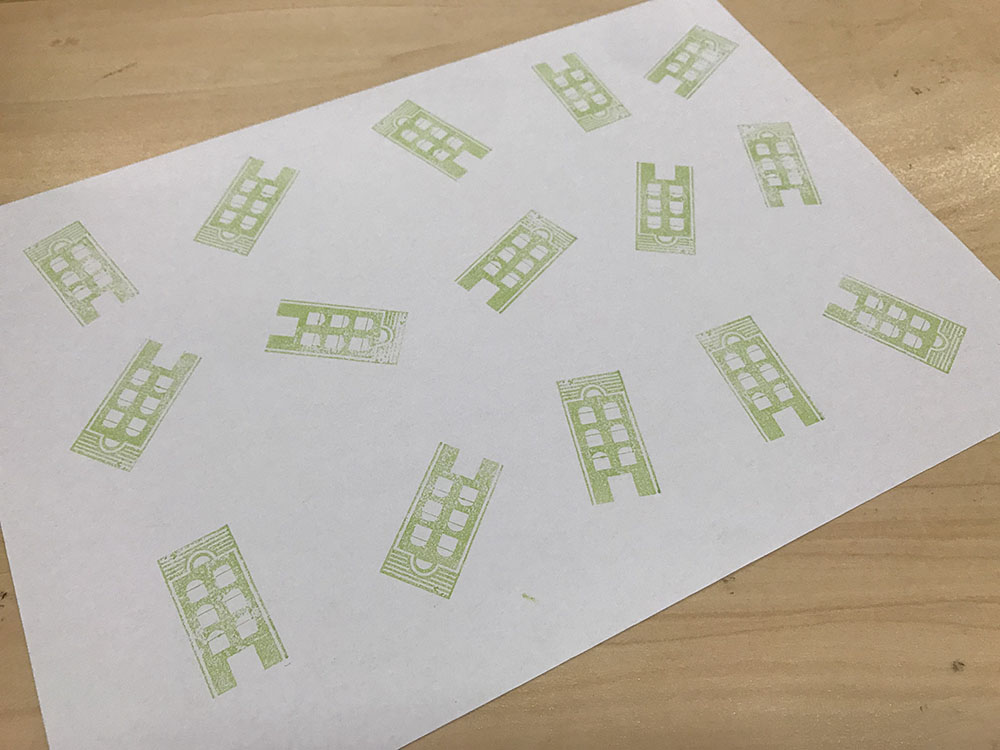build: (364, 427, 524, 623), (149, 508, 294, 705), (38, 327, 220, 480), (692, 302, 833, 457), (549, 361, 683, 524), (248, 279, 424, 394), (816, 269, 979, 391), (16, 201, 146, 340), (437, 203, 585, 320), (355, 94, 514, 192), (179, 152, 311, 267), (614, 149, 717, 280), (727, 112, 833, 220), (526, 44, 636, 142), (630, 16, 748, 105)
